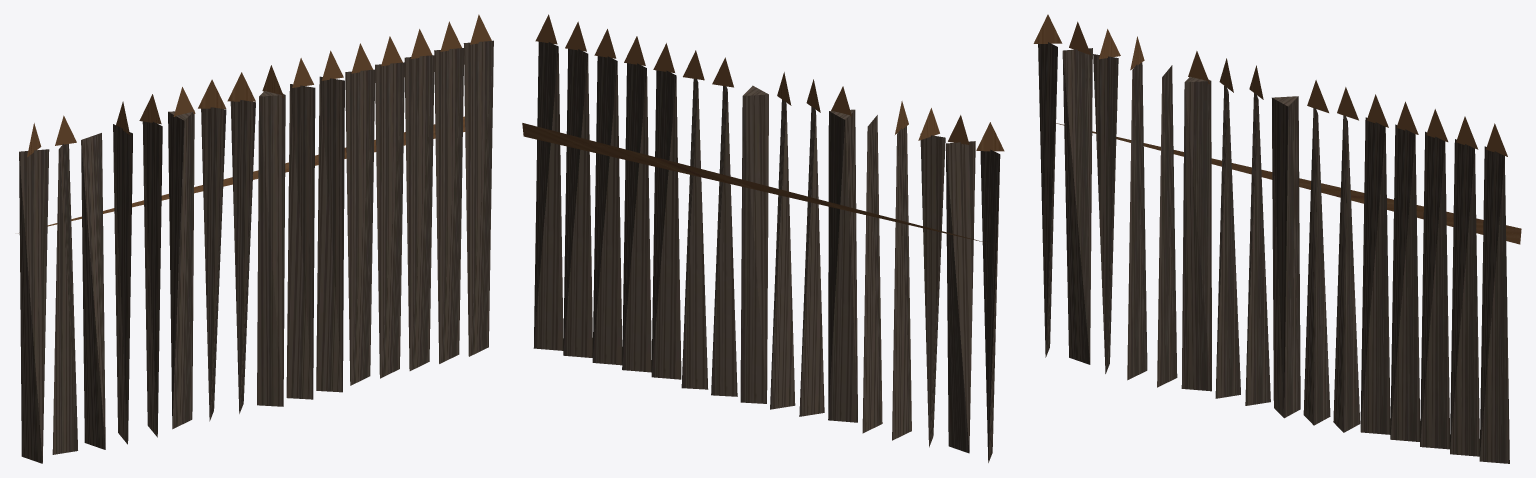
File: palisade_4m_lod2.glb
3 views of the same model, side by side, from view 1: azimuth 30°, elevation 25°; view 2: azimuth 150°, elevation 25°; view 3: azimuth 330°, elevation 25° (orthographic).
Visible parts, largest first — view 1: m; view 2: m; view 3: m.
Boxes of the visible parts, <box> form: m: <box>18,14,493,463</box>; m: <box>522,14,1004,462</box>; m: <box>1033,14,1521,463</box>.
Bounding box in the file's own units: 4.01 × 2.73 × 0.2401.
2 materials, 2 textured.
